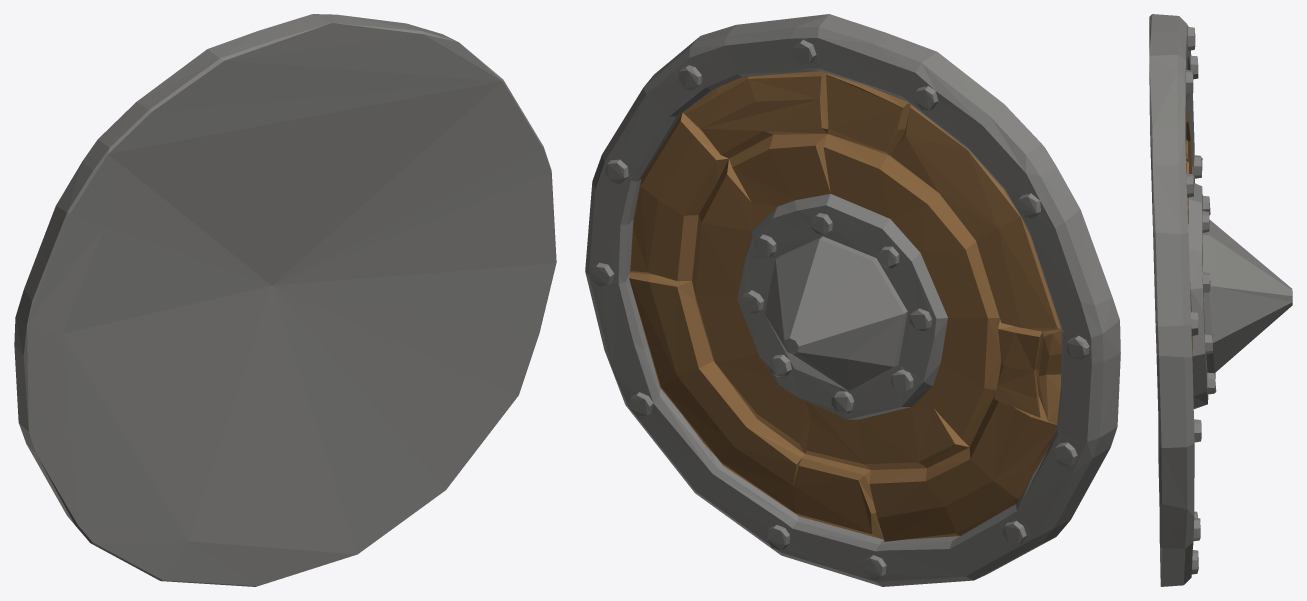
File: WoodenBucklerShield.fbx
3 renders of one model, left to right at view 1: azimuth 30°, elevation 25°; view 2: azimuth 150°, elevation 25°; view 3: azimuth 270°, elevation 25°, orthographic. The views are drawn at different scales.
Parts seen in each view (by area): view 1: WoodenBucklerShield; view 2: WoodenBucklerShield; view 3: WoodenBucklerShield.
Part boxes in pixels (x1,y1,x2,y2): WoodenBucklerShield: (14,14,556,586); WoodenBucklerShield: (585,14,1120,586); WoodenBucklerShield: (1149,14,1292,586).
Size of the model in its own units: 0.56 by 0.1378 by 0.5551.
